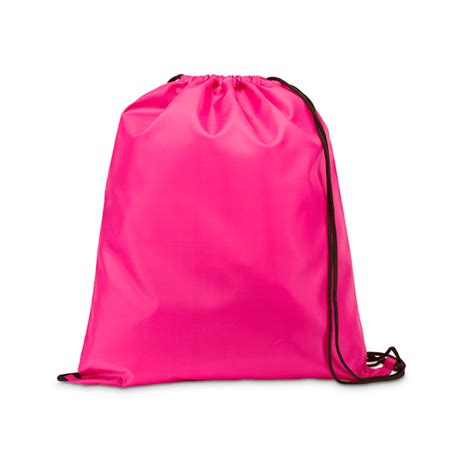nylon: (57, 74, 396, 386)
